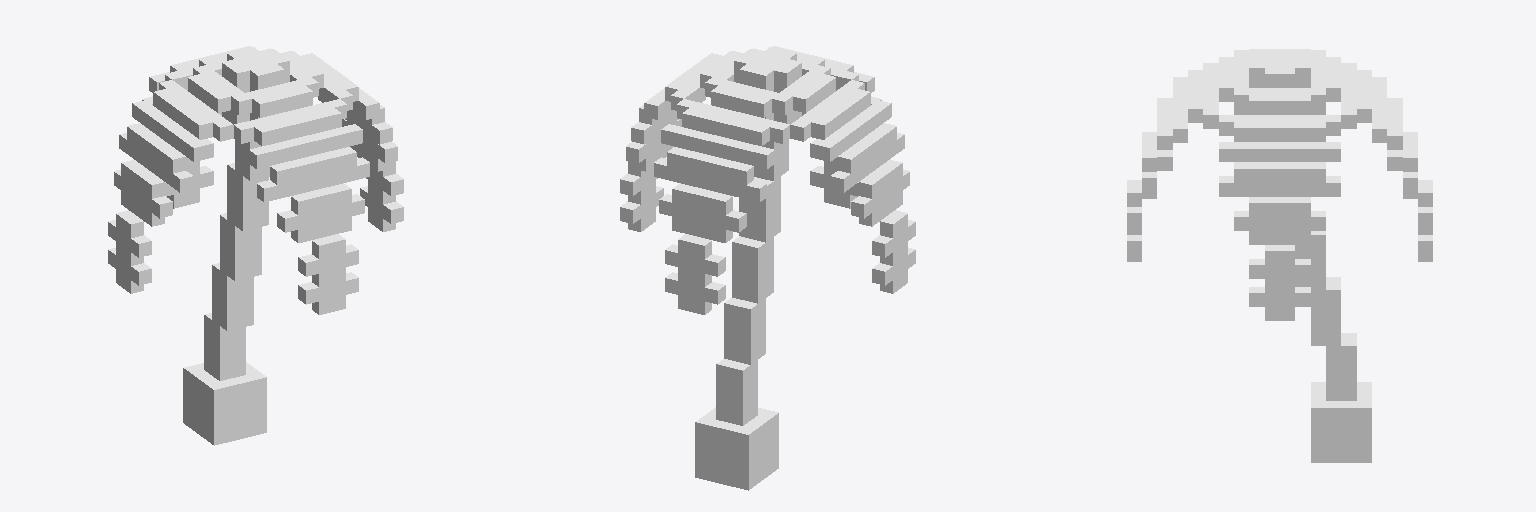
File: palm_2.obj
3 views of the same model, side by side, from view 1: azimuth 30°, elevation 25°; view 2: azimuth 150°, elevation 25°; view 3: azimuth 270°, elevation 25° (orthographic).
Parts seen in each view (by area): view 1: object 1; view 2: object 1; view 3: object 1.
Part boxes in pixels (x1,y1,x2,y2): object 1: (108,46,403,445); object 1: (620,46,915,490); object 1: (1127,49,1432,462).
Size of the model in its own units: 2 by 2.8 by 2.